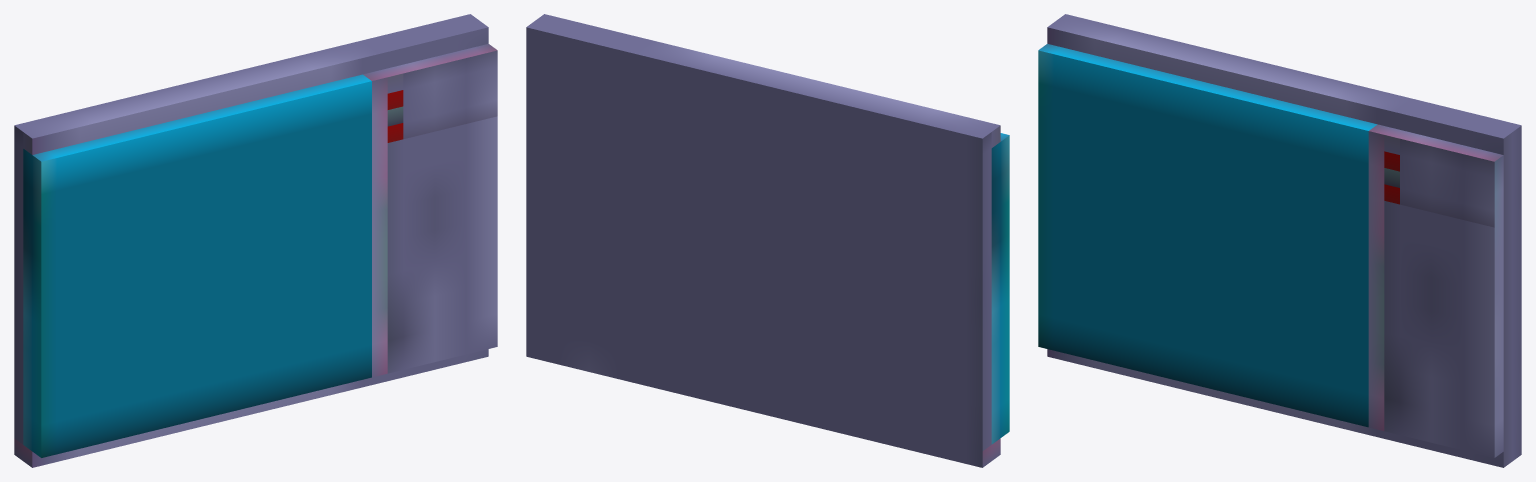
Rendered from Screen_A_00.fbx.
3 renders of one model, left to right at view 1: azimuth 30°, elevation 25°; view 2: azimuth 150°, elevation 25°; view 3: azimuth 330°, elevation 25°, orthographic.
Visible parts, largest first — view 1: Screen_A_00; view 2: Screen_A_00; view 3: Screen_A_00.
Boxes of the visible parts, x1,y1,x2,y2 form: Screen_A_00: [14, 14, 497, 467]; Screen_A_00: [526, 14, 1009, 467]; Screen_A_00: [1038, 14, 1521, 467].
Bounding box in the file's own units: 145 × 100 × 15.
